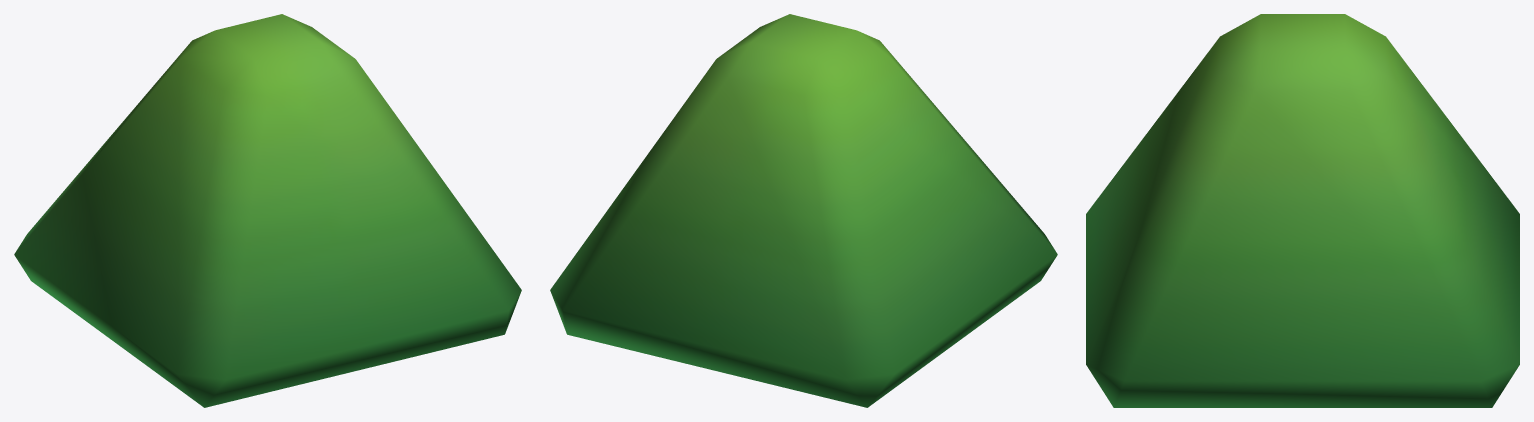
Rendered from Bush_4_A_Color1.glb.
3 renders of one model, left to right at view 1: azimuth 30°, elevation 25°; view 2: azimuth 150°, elevation 25°; view 3: azimuth 270°, elevation 25°, orthographic. The views are drawn at different scales.
Visible parts, largest first — view 1: Bush_4_A_Color1; view 2: Bush_4_A_Color1; view 3: Bush_4_A_Color1.
Boxes of the visible parts, x1,y1,x2,y2 form: Bush_4_A_Color1: (14, 14, 521, 407); Bush_4_A_Color1: (550, 14, 1057, 407); Bush_4_A_Color1: (1086, 14, 1519, 407).
Size of the model in its own units: 0.5768 by 0.4344 by 0.5768.
1 material, 1 textured.
